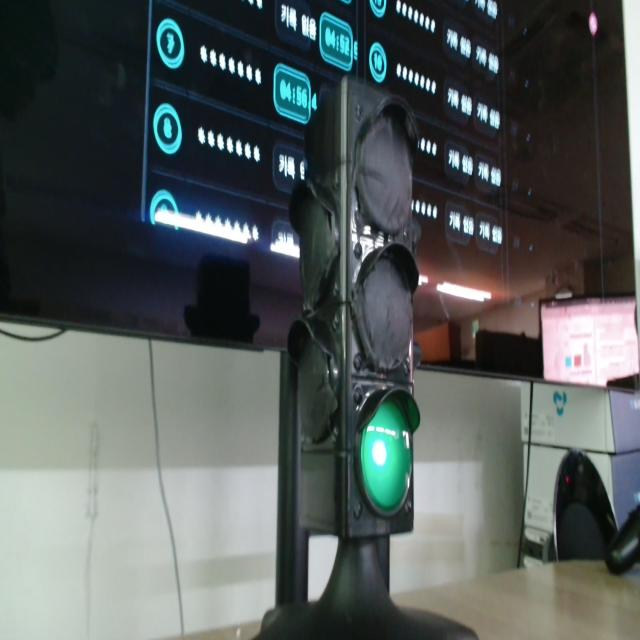green_light: (360, 400, 411, 513)
